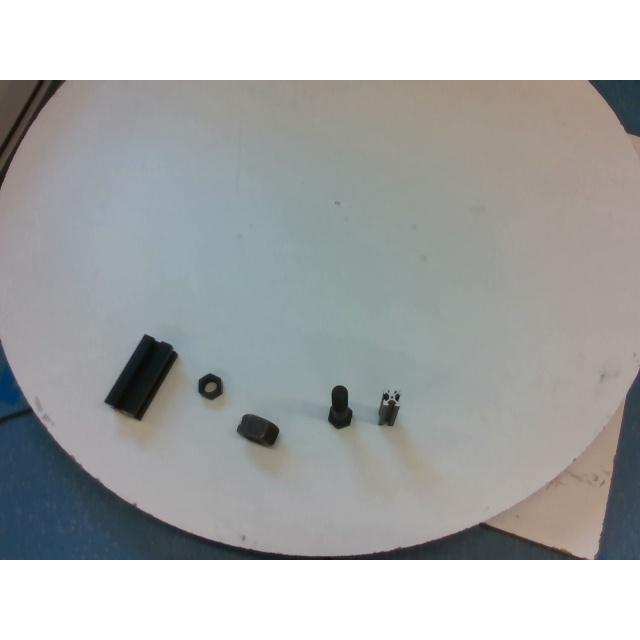F20_20_B: (378, 390, 398, 426)
M20: (198, 374, 222, 398)
M20_100: (328, 384, 352, 428)
M30: (238, 414, 278, 446)
S40_40_B: (104, 335, 176, 419)
